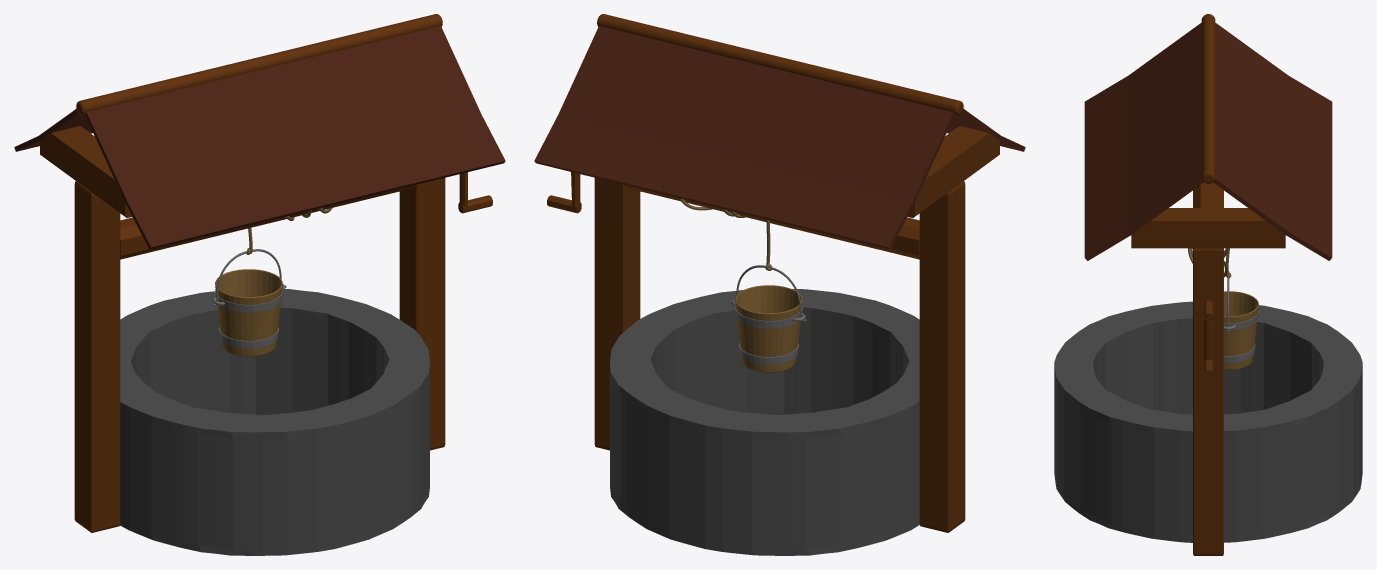
The model's file is Well.fbx.
3 views of the same model, side by side, from view 1: azimuth 30°, elevation 25°; view 2: azimuth 150°, elevation 25°; view 3: azimuth 270°, elevation 25° (orthographic). The views are drawn at different scales.
Parts seen in each view (by area): view 1: Base, Cube.002, PfostenL, PfosteR, Cylinder, Eimer, Cube.001, Drehbalken, Metal Ringe, Cube.006, Cube.004; view 2: Base, Cube.006, PfostenL, PfosteR, Cylinder, Eimer, Cube.001, Drehbalken, Metal Ringe, Cube.002, Cube.004; view 3: Base, Cube.006, Cube.002, PfosteR, Cube.003, Cylinder, Eimer, Drehbalken, Cube.004, Metal Ringe.
Part boxes in pixels (x1,y1,x2,y2): Base: (120, 289, 429, 555); Cube.002: (85, 26, 505, 249); PfostenL: (74, 181, 120, 532); PfosteR: (399, 178, 445, 450); Cylinder: (76, 14, 442, 115); Eimer: (215, 269, 282, 356); Cube.001: (40, 126, 132, 217); Drehbalken: (120, 185, 414, 259); Metal Ringe: (215, 289, 282, 348); Cube.006: (14, 109, 92, 151); Cube.004: (458, 172, 492, 213); Base: (610, 289, 919, 555); Cube.006: (534, 26, 954, 249); PfostenL: (919, 181, 965, 532); PfosteR: (594, 178, 640, 450); Cylinder: (597, 14, 963, 115); Eimer: (735, 285, 802, 372); Cube.001: (907, 126, 999, 217); Drehbalken: (625, 185, 919, 259); Metal Ringe: (735, 305, 802, 364); Cube.002: (947, 109, 1025, 151); Cube.004: (547, 172, 581, 213); Base: (1054, 301, 1362, 542); Cube.006: (1213, 23, 1332, 260); Cube.002: (1084, 23, 1203, 260); PfosteR: (1193, 248, 1223, 555); Cube.003: (1131, 208, 1285, 248); Cylinder: (1201, 14, 1215, 183); Eimer: (1224, 291, 1258, 369); Drehbalken: (1193, 182, 1223, 207); Cube.004: (1204, 300, 1212, 378); Metal Ringe: (1224, 310, 1258, 362).
Bounding box in the file's own units: 279 × 276 × 200.
